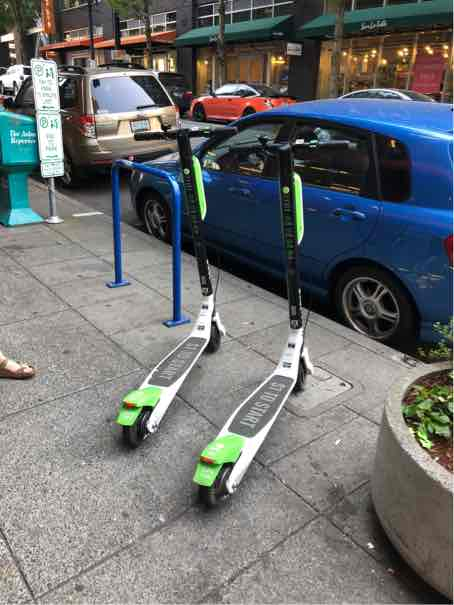scooter: (191, 143, 355, 506), (107, 138, 235, 448)
